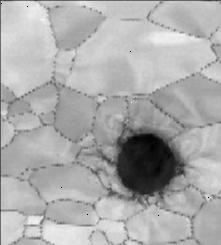good_void: (98, 128, 183, 202), (94, 91, 104, 97)
